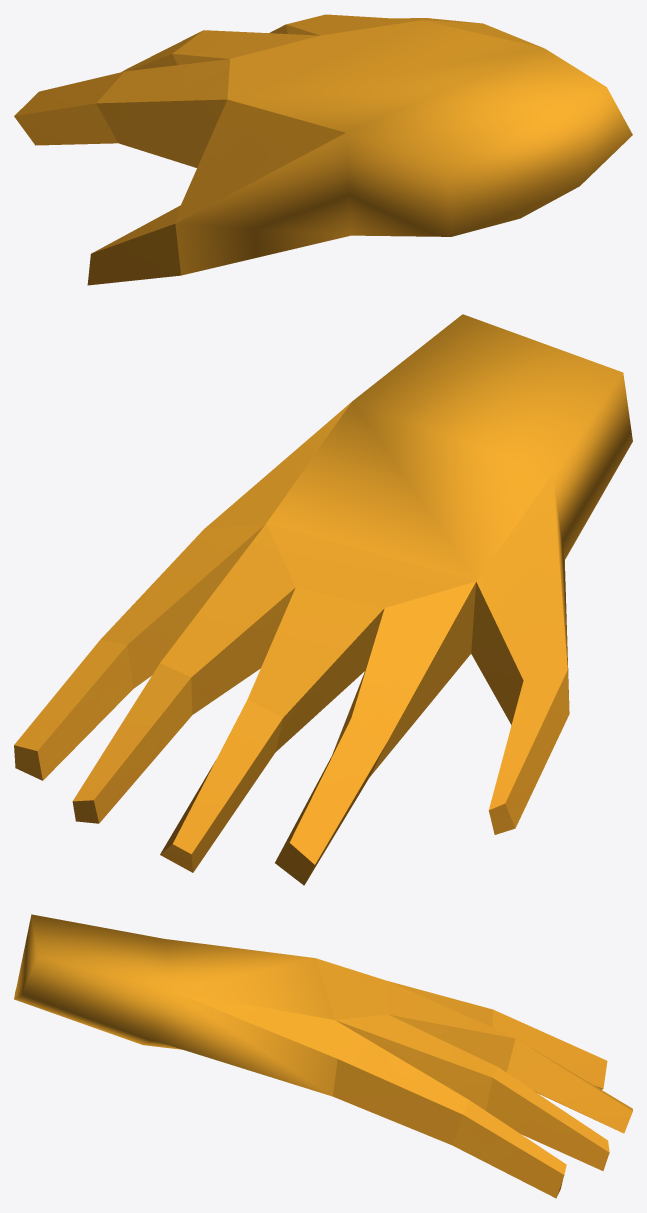
File: hand.fbx
3 views of the same model, one above another, from view 1: azimuth 30°, elevation 25°; view 2: azimuth 150°, elevation 25°; view 3: azimuth 270°, elevation 25° (orthographic). The views are drawn at different scales.
Parts seen in each view (by area): view 1: woman-skate.002; view 2: woman-skate.002; view 3: woman-skate.002.
Part boxes in pixels (box(x1,y1,x2,y2)): woman-skate.002: box(14, 14, 632, 285); woman-skate.002: box(14, 314, 632, 885); woman-skate.002: box(14, 914, 632, 1198).
Bounding box in the file's own units: 35.06 × 24.62 × 59.69.
